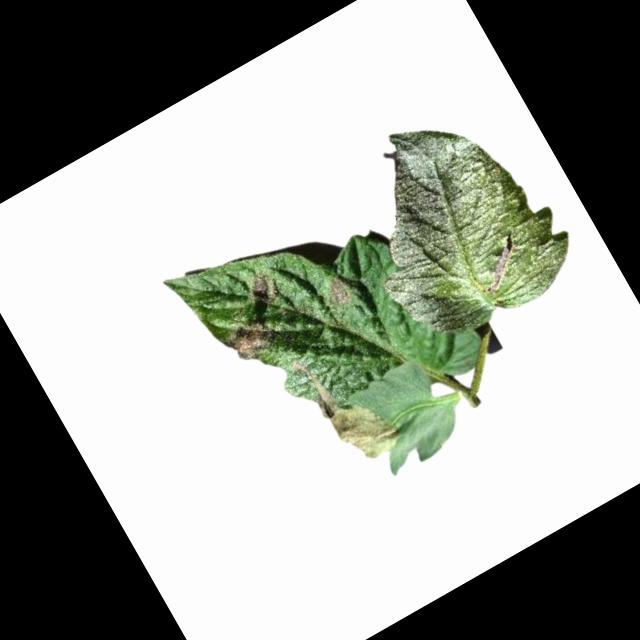Late_blight: (328, 389, 405, 469), (290, 352, 343, 421), (222, 313, 279, 366), (319, 273, 353, 310), (244, 268, 278, 304)
